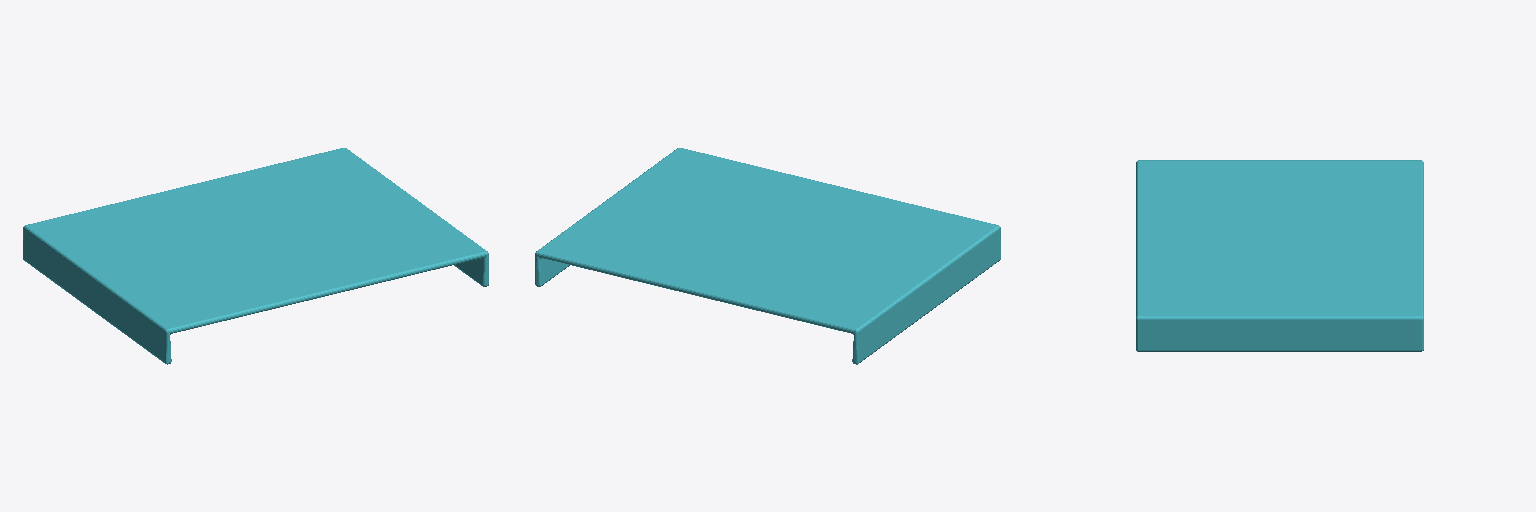
Rendered from BlueSheet.obj.
3 renders of one model, left to right at view 1: azimuth 30°, elevation 25°; view 2: azimuth 150°, elevation 25°; view 3: azimuth 270°, elevation 25°, orthographic.
Visible parts, largest first — view 1: Blue_Sheet_Cube.009; view 2: Blue_Sheet_Cube.009; view 3: Blue_Sheet_Cube.009.
Boxes of the visible parts, <box> form: Blue_Sheet_Cube.009: <box>23,148,488,364</box>; Blue_Sheet_Cube.009: <box>535,148,1000,364</box>; Blue_Sheet_Cube.009: <box>1136,160,1423,351</box>.
Bounding box in the file's own units: 0.9014 × 0.0941 × 0.6945.